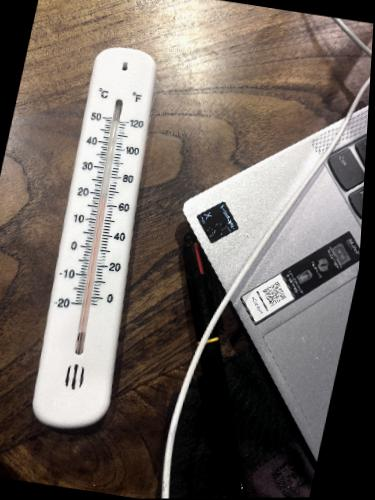thermo: (28, 50, 170, 436)
